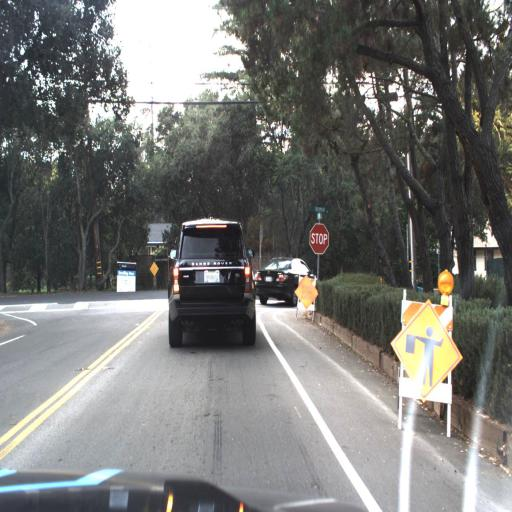car: (161, 208, 262, 352), (167, 216, 255, 351), (253, 252, 322, 309)
